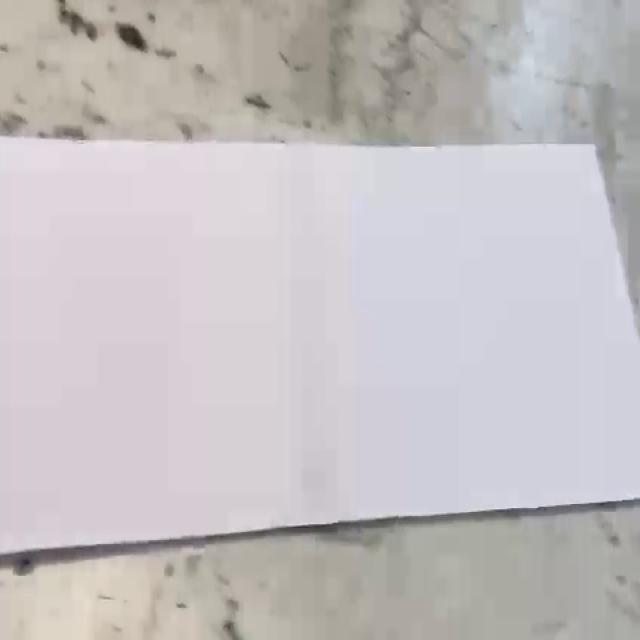road: (0, 140, 640, 554)
